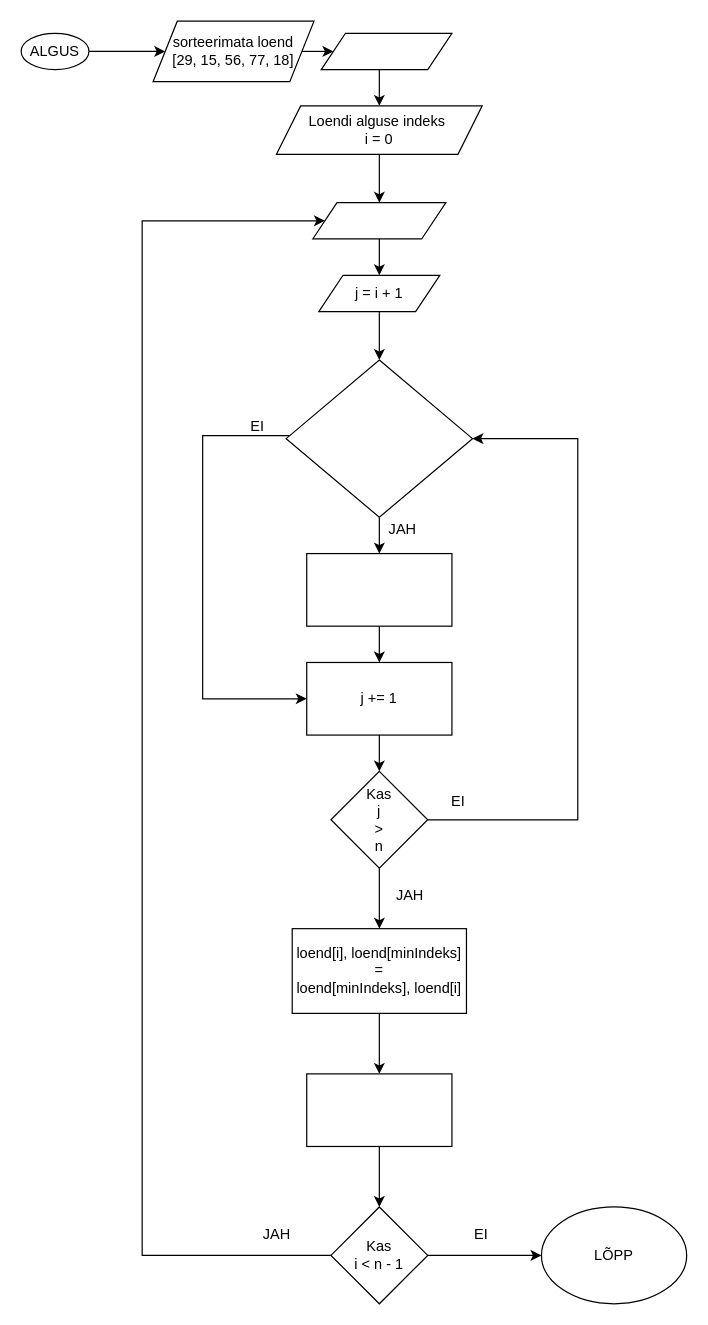
Some shapes in this 708 by 1325 pixel diagram are drawn without their labels. Here are the shapes that lost their labels. From the top down, the box of each, then its label:
(320, 32, 452, 70): n = len(loend)
(312, 201, 446, 239): minIndeks = i
(285, 359, 473, 517): Kas loend[j] < loend[minIndeks]
(306, 552, 452, 626): minIndeks = j
(306, 1073, 452, 1146): i += 1
